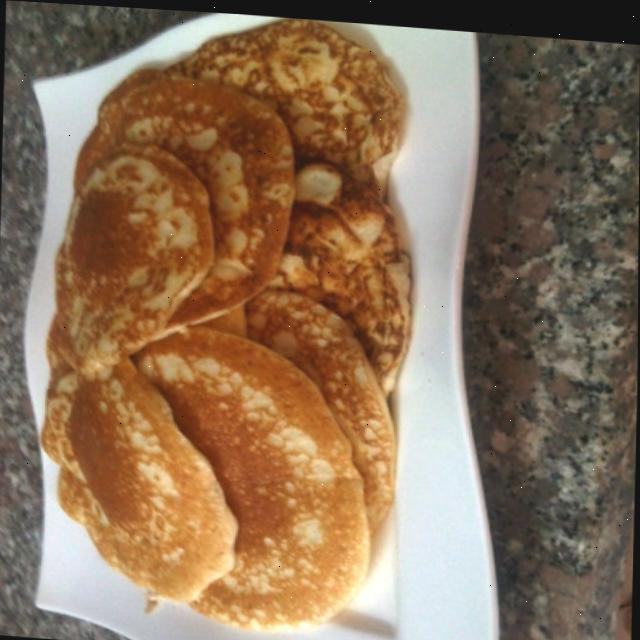蛋糕甜品: (21, 1, 464, 640)
